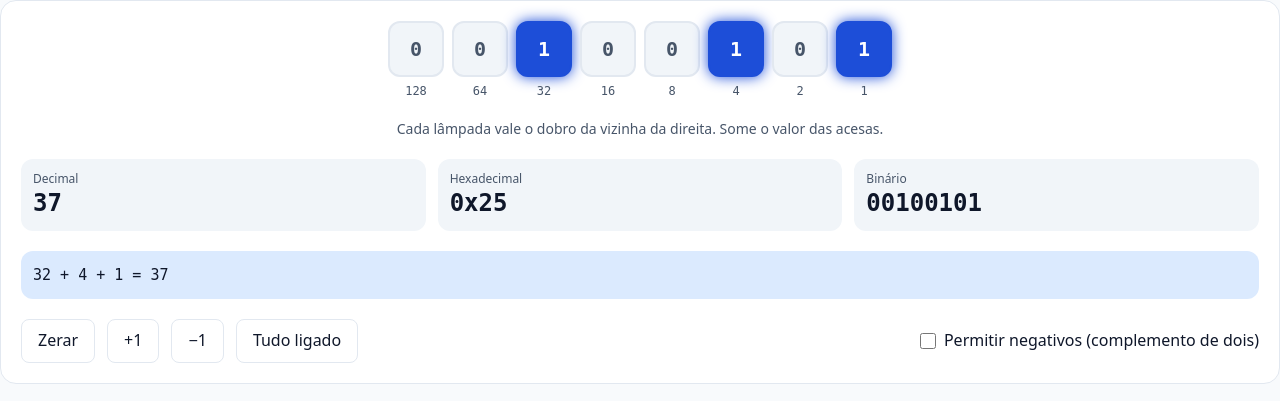
Test: simulador de binário › clicar nos bits muda o valor decimal e hexadecimal
Click the button "Zerar": (58, 341) x1=21 y1=319 x2=95 y2=363
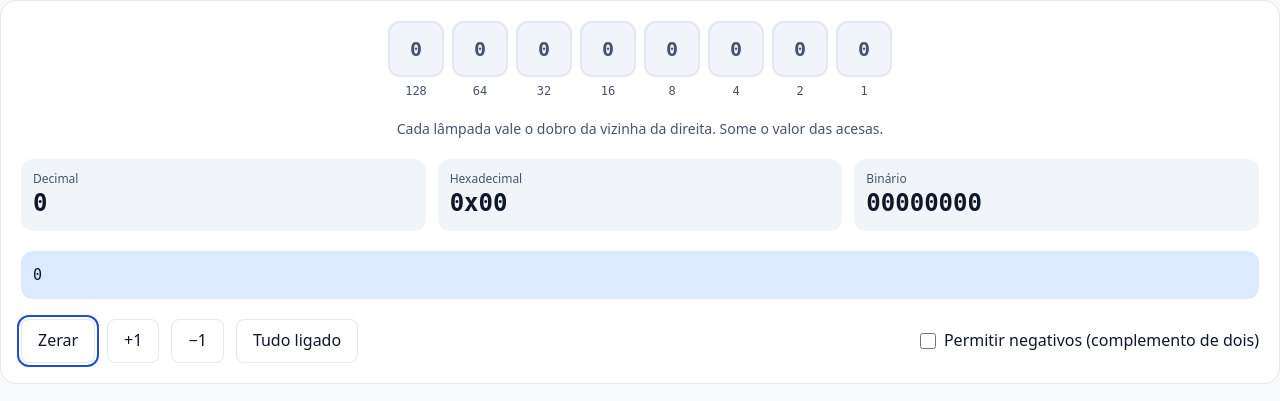
Click the button named "Bit de valor 128: 0": (416, 49) x1=388 y1=21 x2=444 y2=77
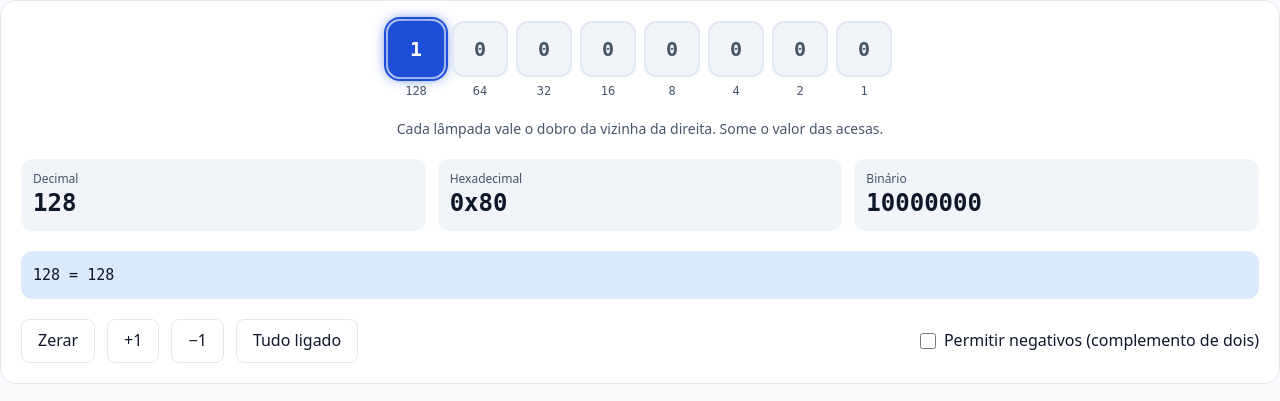
Click the button named "Bit de valor 1: 0": (864, 49) x1=836 y1=21 x2=892 y2=77
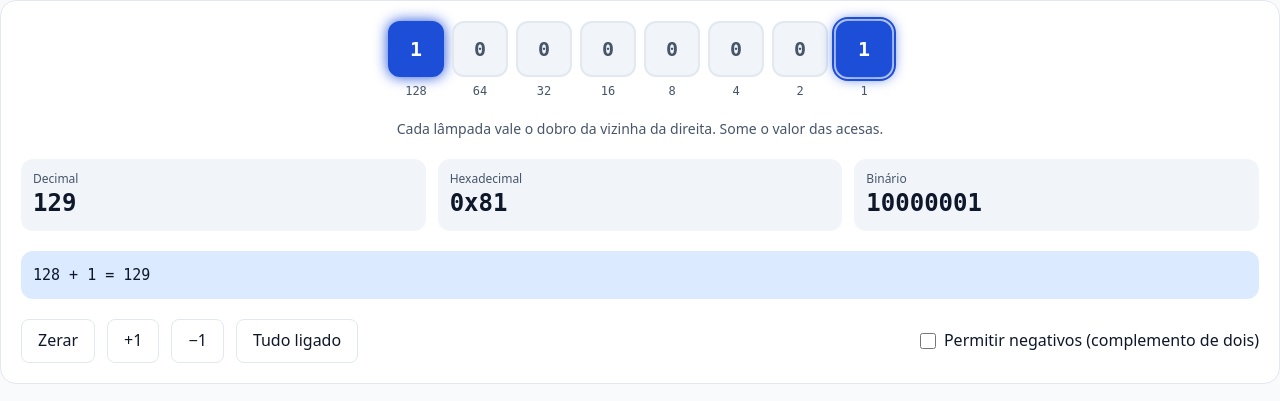
Result: the text "129" is shown at x1=33 y1=189 x2=76 y2=217
Result: the text "0x81" is shown at x1=450 y1=189 x2=508 y2=217
Result: the text "128 + 1 = 129" is shown at x1=21 y1=251 x2=1259 y2=299
